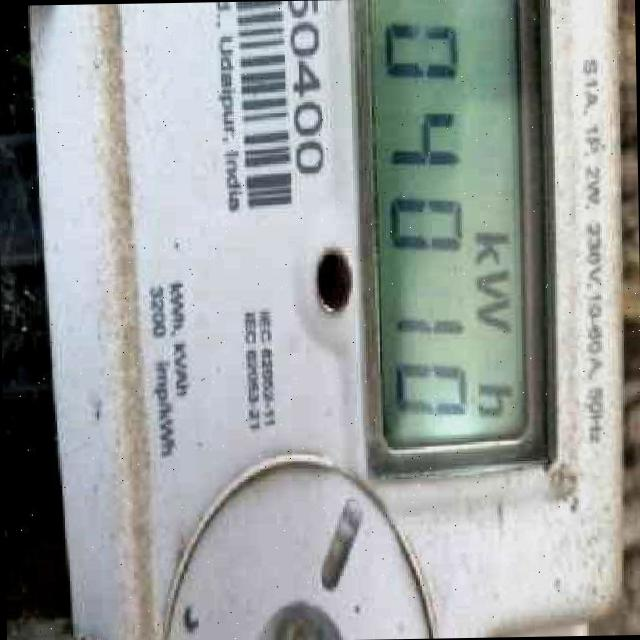LCD: (343, 0, 557, 485)
